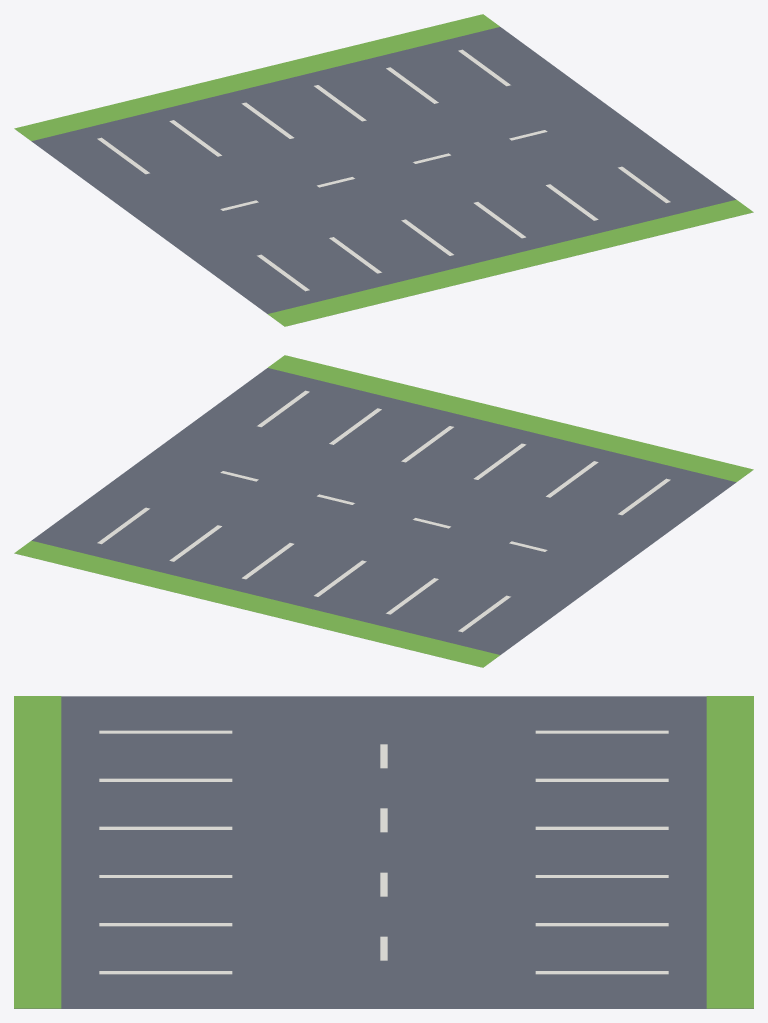
Rendered from L_Parking.fbx.
3 views of the same model, one above another, from view 1: azimuth 30°, elevation 25°; view 2: azimuth 150°, elevation 25°; view 3: azimuth 270°, elevation 25° (orthographic). The views are drawn at different scales.
Parts seen in each view (by area): view 1: L_Parking; view 2: L_Parking; view 3: L_Parking.
Part boxes in pixels (x1,y1,x2,y2): L_Parking: [14, 14, 753, 326]; L_Parking: [14, 355, 753, 667]; L_Parking: [14, 696, 753, 1008].
Bounding box in the file's own units: 7.8 × 0.001 × 7.8.
